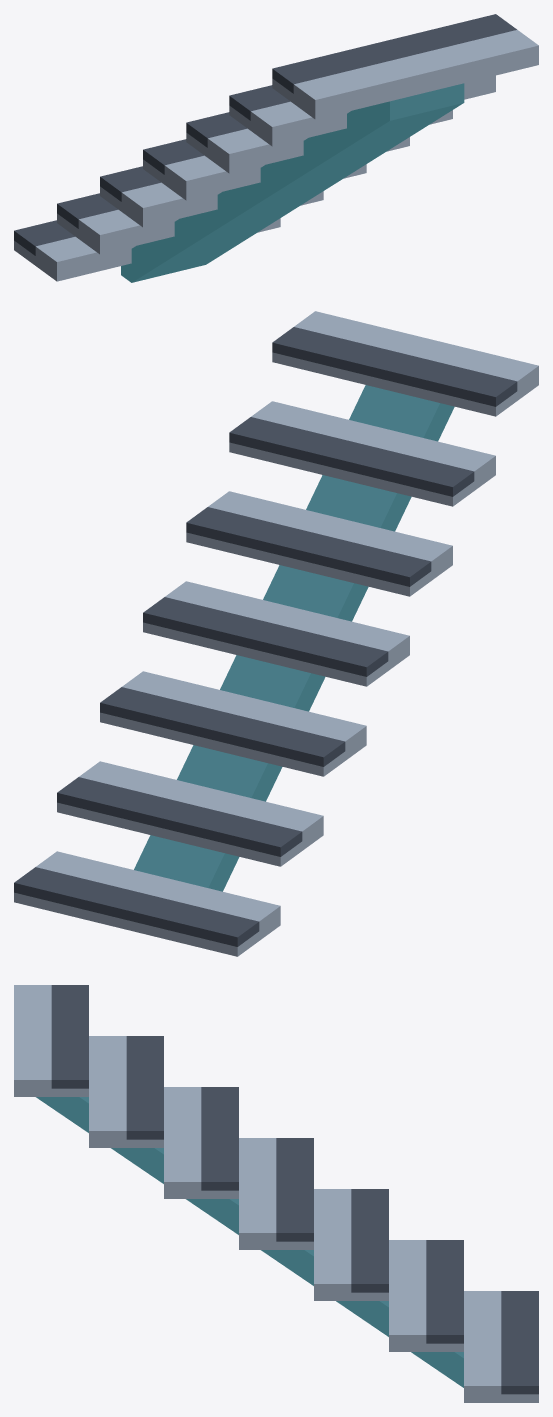
File: stairs.glb
The picture shows the model from 3 angles, top to bottom: view 1: azimuth 30°, elevation 25°; view 2: azimuth 150°, elevation 25°; view 3: azimuth 270°, elevation 25°; orthographic projection. The views are drawn at different scales.
Visible parts, largest first — view 1: stairs; view 2: stairs; view 3: stairs.
Boxes of the visible parts, <box> form: stairs: <box>14,14,538,282</box>; stairs: <box>14,311,538,956</box>; stairs: <box>14,985,538,1402</box>.
Size of the model in its own units: 0.3 by 0.5 by 0.7.
